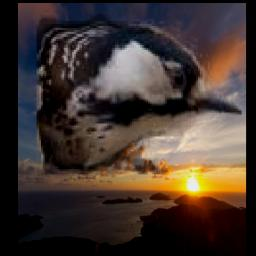Woodpecker: (37, 11, 242, 175)
